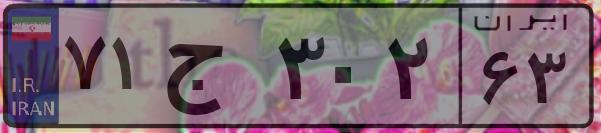0: (330, 28, 385, 110)
1: (110, 28, 158, 98)
2: (385, 28, 445, 110)
3: (270, 28, 330, 110), (525, 38, 570, 115)
6: (475, 38, 525, 113)
7: (57, 26, 110, 100)
ج: (158, 20, 270, 120)
